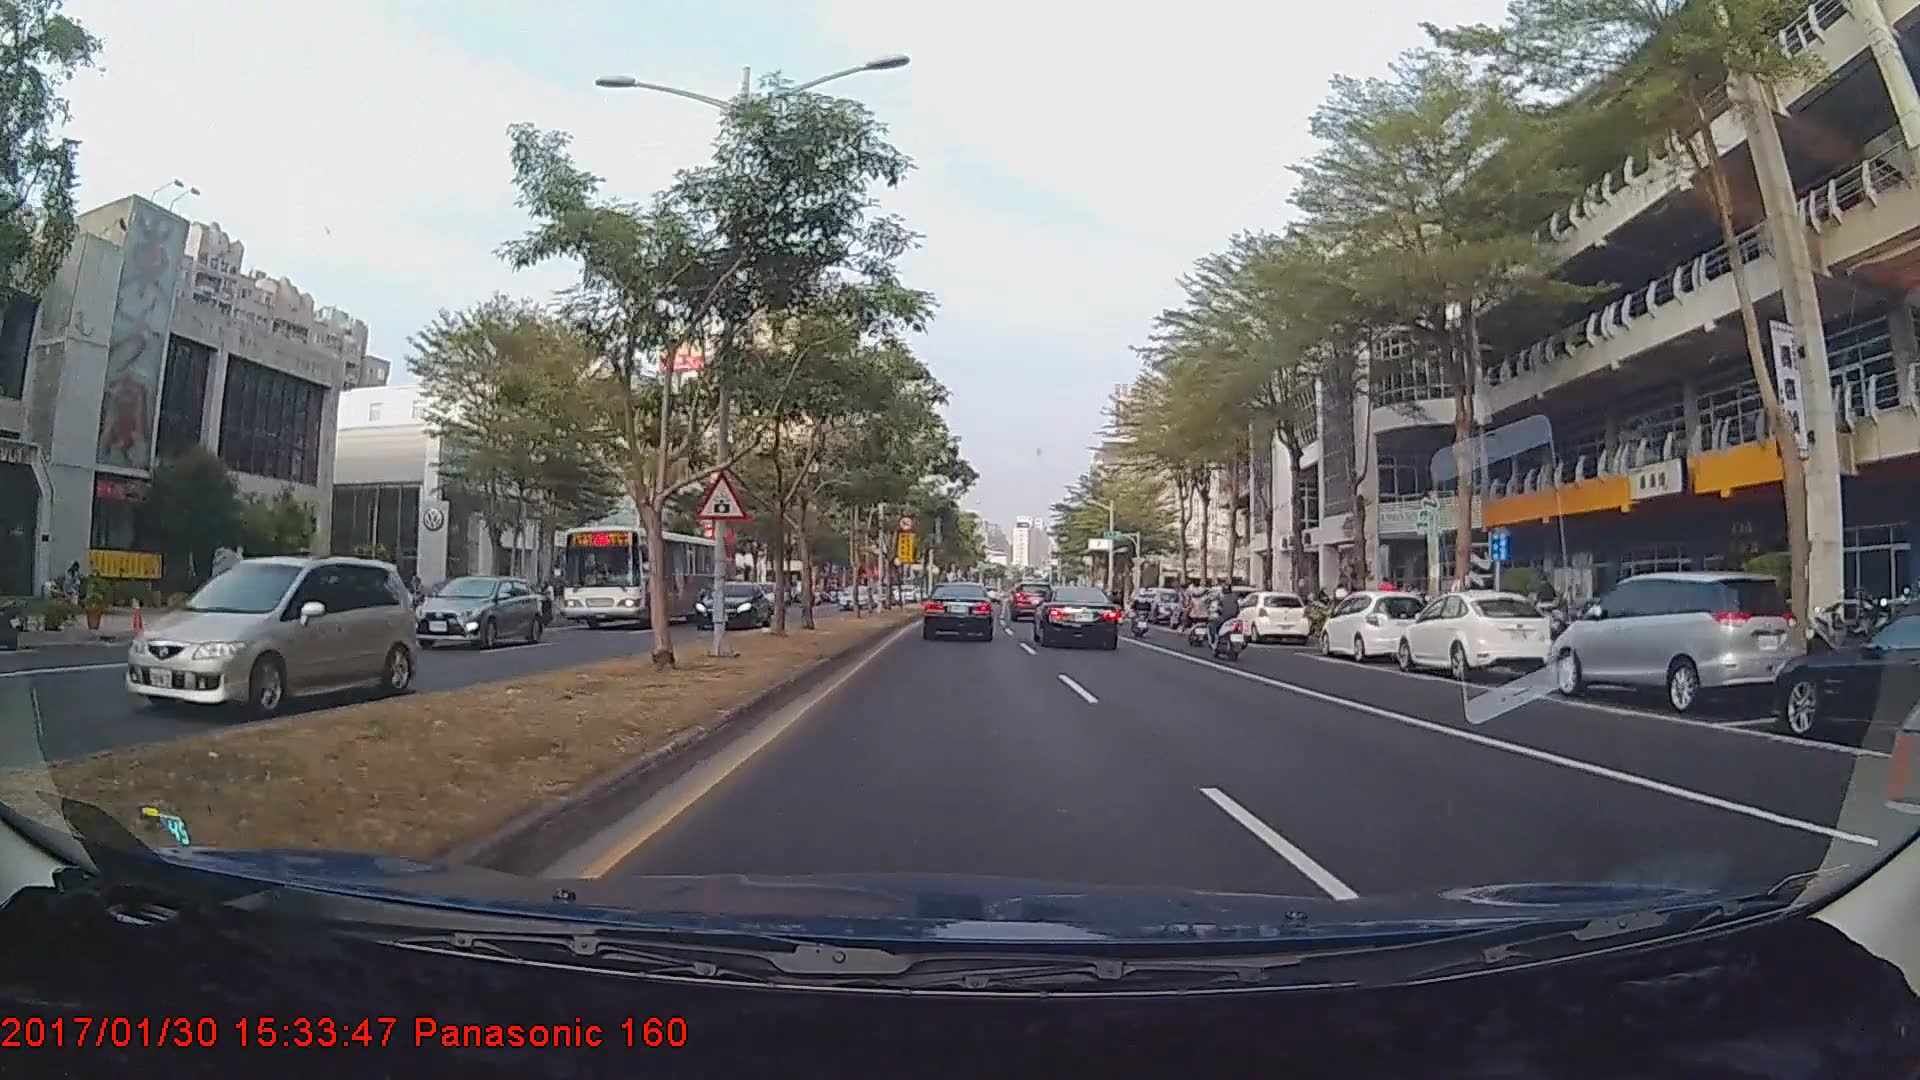rider: (1204, 582, 1254, 665), (1183, 590, 1221, 648), (1129, 586, 1155, 641)
vehicle: (121, 554, 418, 720), (1546, 568, 1798, 712), (1770, 598, 1920, 745), (559, 525, 730, 631), (1394, 589, 1554, 677), (411, 577, 541, 652), (1319, 589, 1432, 662), (1035, 585, 1122, 650), (921, 580, 996, 642), (1229, 590, 1312, 645), (1182, 581, 1262, 632), (692, 579, 772, 629), (1008, 585, 1051, 623), (835, 583, 873, 609)
